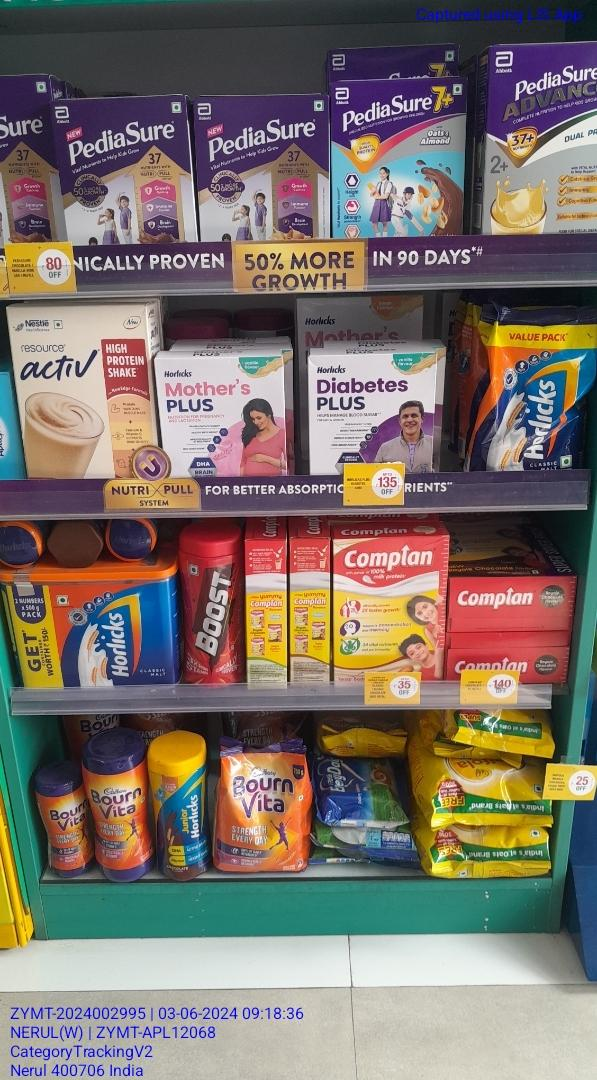BOURN_VITA_200_G_JAR: (40, 771, 83, 875)
BOURN_VITA_500_G_JAR: (90, 753, 146, 881)
BOURN_VITA_750_G_POUCH: (216, 747, 308, 875)
COMPLAN_KESAR_BADAM_200_GMS_PACK: (334, 537, 444, 668)
HORLICK_CLASSIC_MALT_750_G_POUCH: (478, 306, 584, 469)
HORLICK_MALT_1_KG_CONTAINER: (4, 573, 179, 684)
PEDIASURE_7_PLUS_CHOCOLATE_400_G_PACK: (333, 83, 464, 236)
PEDIASURE_CHOCOLATE_500_G_PACK: (59, 100, 188, 242)
PEDIASURE_VANILLA_500_G_PACK: (196, 94, 325, 241)
